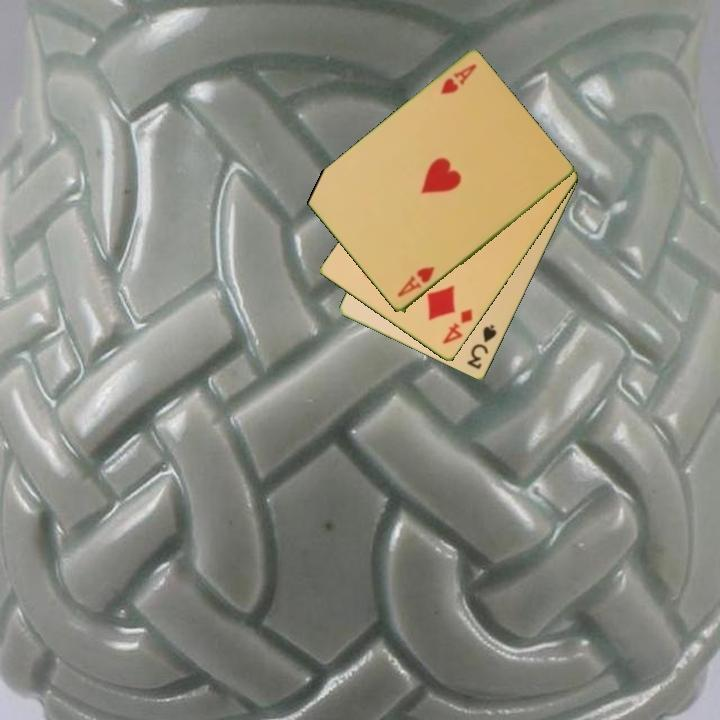3s: (464, 321, 500, 373)
4d: (439, 305, 476, 347)
Ah: (394, 263, 437, 301), (437, 60, 480, 98)
